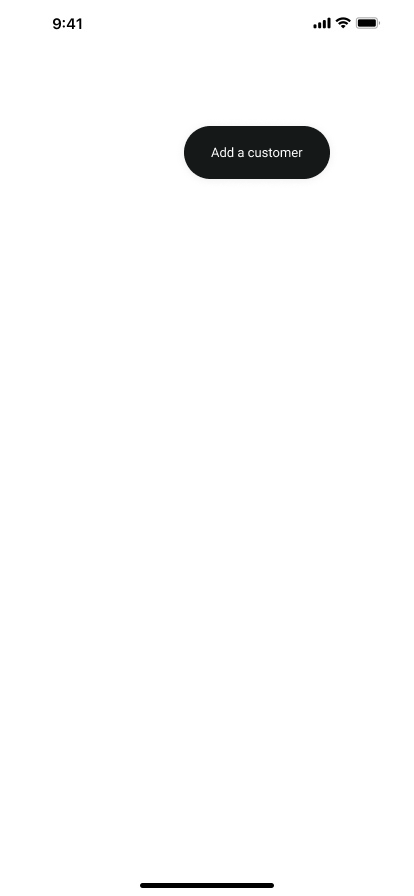Buttons: (174, 117, 340, 190)
Home Indicator: (0, 862, 414, 896)
Status Bar: (0, 0, 414, 44)
